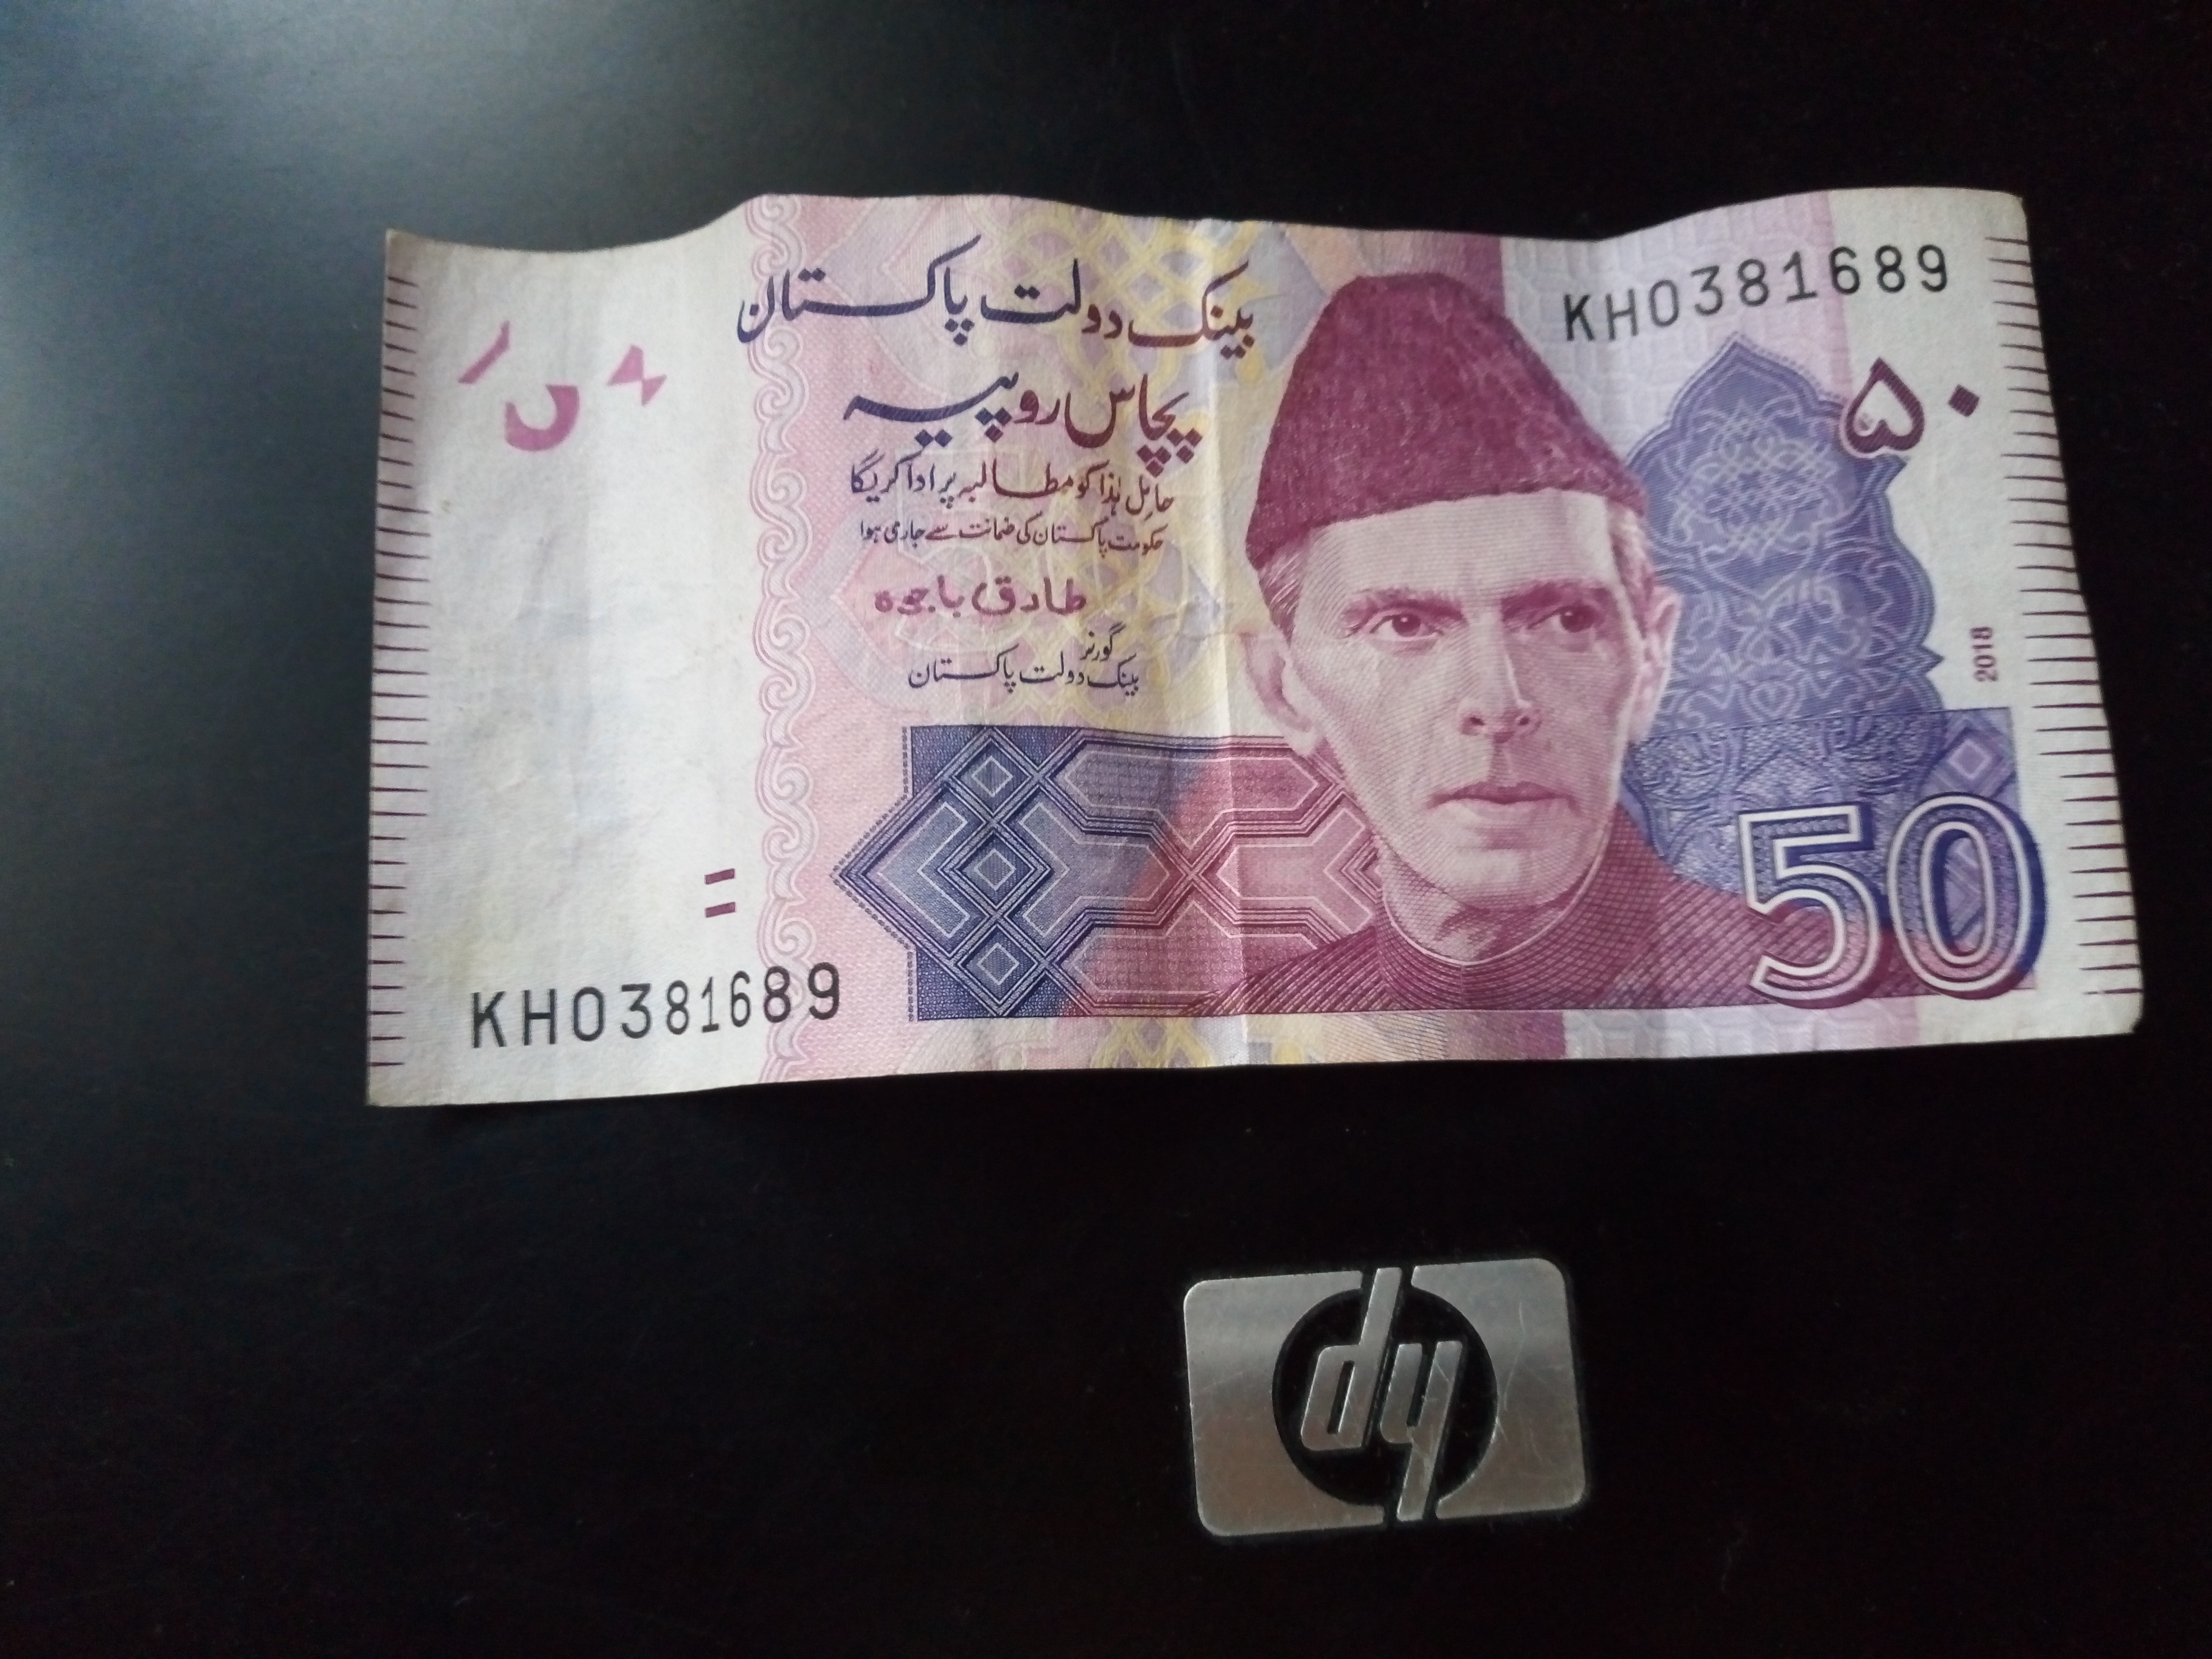50 rupee: (336, 162, 2123, 1112)
